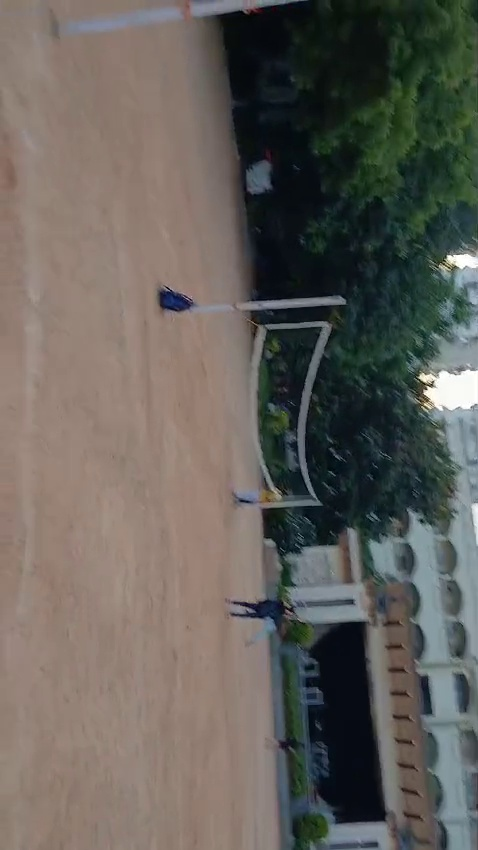bag: (154, 278, 200, 336)
